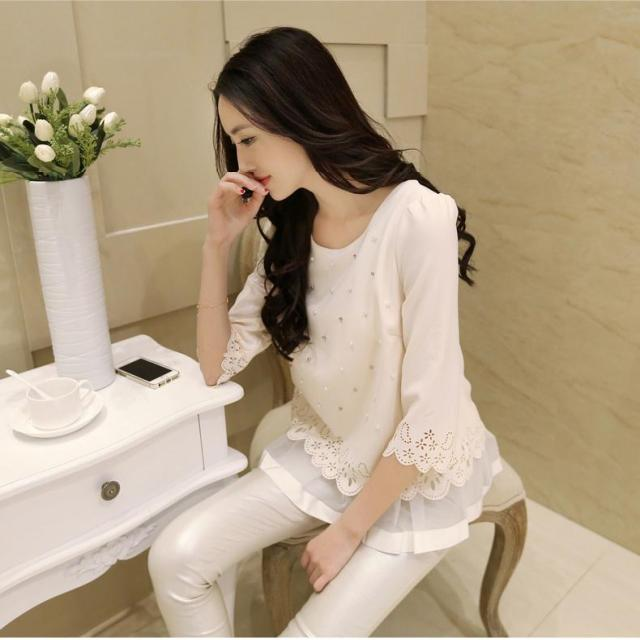short sleeve top: (207, 185, 502, 549)
trousers: (151, 419, 463, 638)
